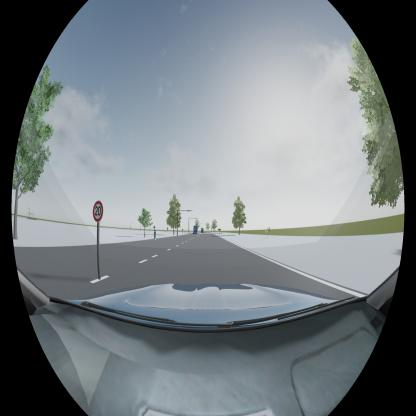Speed Limit 20: (92, 199, 104, 222)
